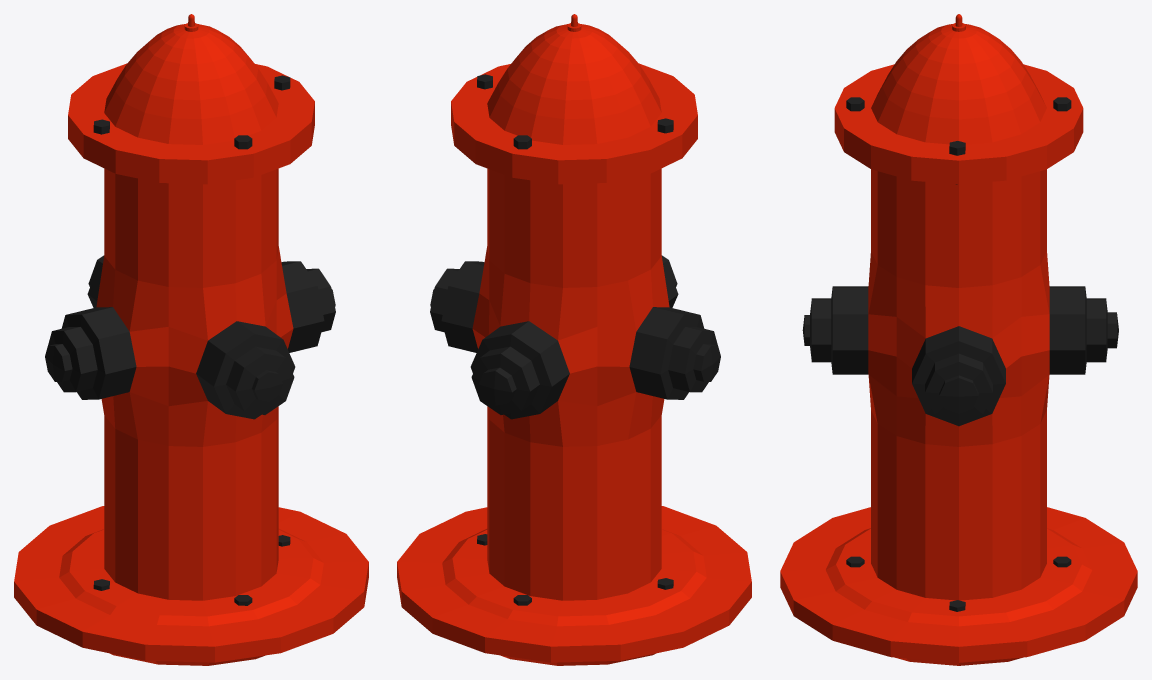
The model's file is fire-hydrant.glb.
3 renders of one model, left to right at view 1: azimuth 30°, elevation 25°; view 2: azimuth 150°, elevation 25°; view 3: azimuth 270°, elevation 25°, orthographic.
Parts seen in each view (by area): view 1: Fire_Hydrant; view 2: Fire_Hydrant; view 3: Fire_Hydrant.
Boxes of the visible parts, x1,y1,x2,y2 form: Fire_Hydrant: [14, 14, 368, 665]; Fire_Hydrant: [397, 14, 751, 665]; Fire_Hydrant: [780, 14, 1137, 665].
Size of the model in its own units: 2.17 by 4 by 2.17.
